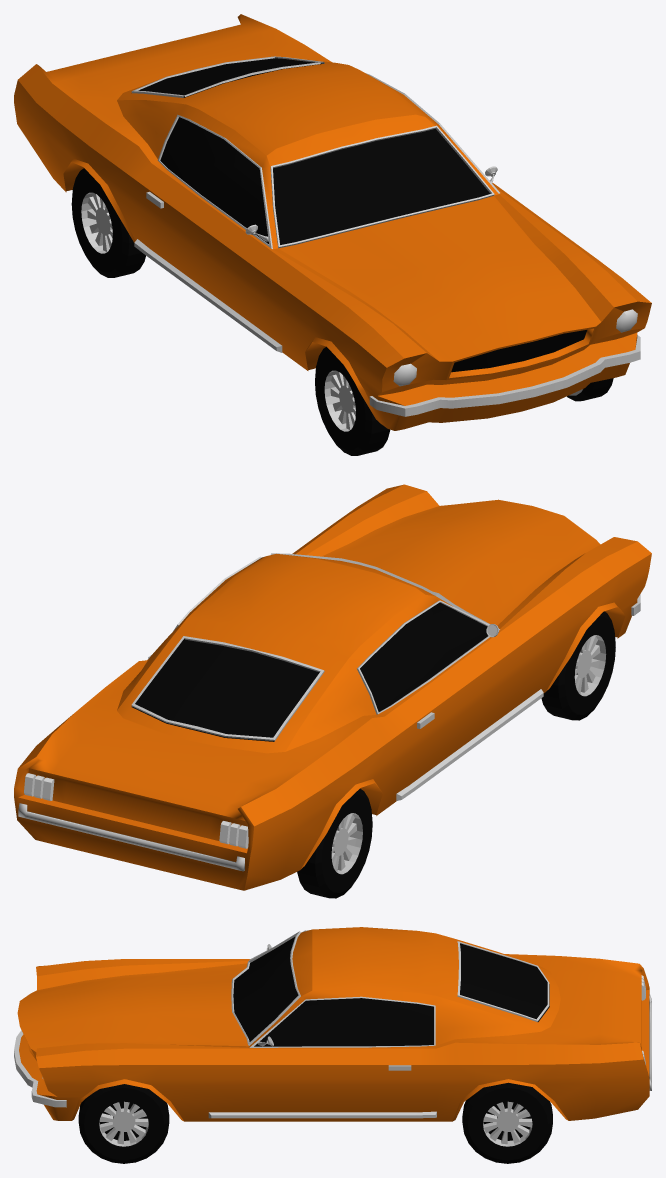
Rendered from Mustang.fbx.
3 views of the same model, one above another, from view 1: azimuth 30°, elevation 25°; view 2: azimuth 150°, elevation 25°; view 3: azimuth 270°, elevation 25° (orthographic). The views are drawn at different scales.
Visible parts, largest first — view 1: Circle, Circle.001, Circle.002, Circle.011, Circle.006, Circle.009, Circle.005, Circle.008; view 2: Circle, Circle.002, Circle.001, Circle.010, Circle.008, Circle.009, Circle.003, Circle.005, Circle.006; view 3: Circle, Circle.002, Circle.001, Circle.009, Circle.005, Circle.006, Circle.011, Circle.008.
Boxes of the visible parts, box(x1,y1,x2,y2) form: Circle: box(14, 14, 651, 430); Circle.001: box(315, 346, 613, 455); Circle.002: box(71, 168, 145, 277); Circle.011: box(369, 335, 640, 416); Circle.006: box(270, 125, 494, 248); Circle.009: box(134, 239, 282, 352); Circle.005: box(157, 73, 499, 248); Circle.008: box(131, 56, 324, 97); Circle: box(14, 484, 651, 890); Circle.002: box(297, 788, 372, 898); Circle.001: box(541, 611, 615, 720); Circle.010: box(18, 803, 244, 871); Circle.008: box(131, 636, 324, 741); Circle.009: box(396, 689, 543, 800); Circle.003: box(24, 773, 248, 848); Circle.005: box(173, 556, 499, 714); Circle.006: box(270, 553, 489, 624); Circle: box(17, 927, 649, 1121); Circle.002: box(462, 1082, 552, 1163); Circle.001: box(78, 1084, 169, 1163); Circle.009: box(208, 1111, 436, 1118); Circle.005: box(249, 930, 435, 1047); Circle.006: box(231, 931, 300, 1045); Circle.011: box(14, 1030, 66, 1107); Circle.008: box(457, 941, 549, 1021).
Size of what is drawn, in the model's own units: 134 by 97.88 by 339.
